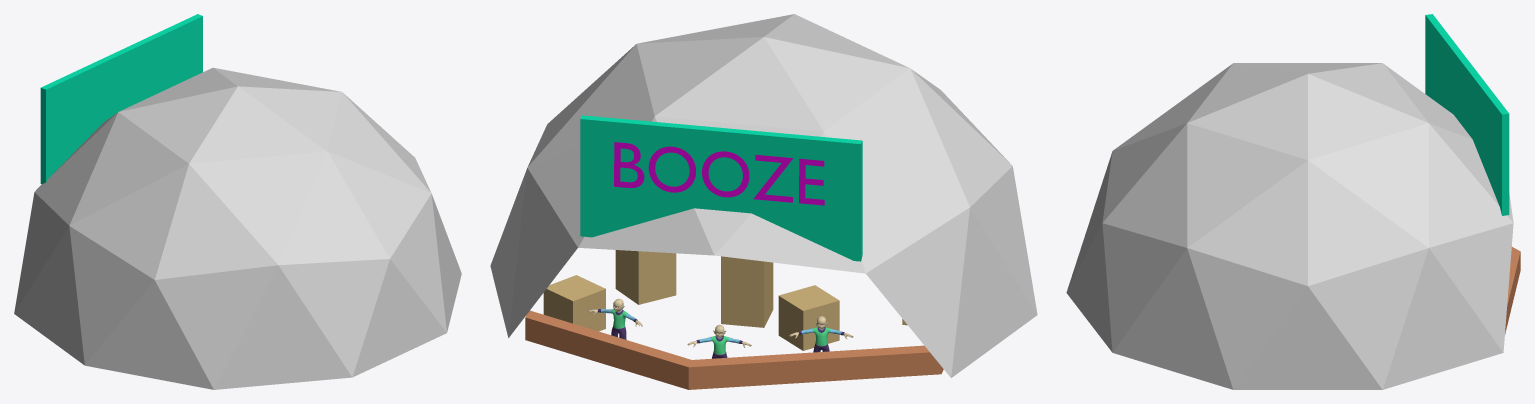
The model's file is bar.fbx.
The picture shows the model from 3 angles, left to right: view 1: azimuth 30°, elevation 25°; view 2: azimuth 150°, elevation 25°; view 3: azimuth 270°, elevation 25°; orthographic projection. The views are drawn at different scales.
Visible parts, largest first — view 1: Icosphere, Cube.005; view 2: Icosphere, Cube.005, Cube, Text, Cube.006, Cube.007, Cube.004, Cube.002; view 3: Icosphere, Cube.005, Cube.
Boxes of the visible parts, x1=… form: Icosphere: x1=14, y1=67, x2=461, y2=389; Cube.005: x1=40, y1=14, x2=202, y2=184; Icosphere: x1=490, y1=14, x2=1037, y2=377; Cube.005: x1=580, y1=115, x2=862, y2=261; Cube: x1=525, y1=298, x2=943, y2=389; Text: x1=614, y1=142, x2=824, y2=205; Cube.006: x1=721, y1=256, x2=773, y2=327; Cube.007: x1=615, y1=250, x2=676, y2=304; Cube.004: x1=778, y1=285, x2=839, y2=350; Cube.002: x1=543, y1=275, x2=605, y2=331; Icosphere: x1=1066, y1=63, x2=1513, y2=389; Cube.005: x1=1425, y1=14, x2=1509, y2=215; Cube: x1=1505, y1=247, x2=1520, y2=334.
Size of the model in its own units: 3.62 by 1.91 by 3.57.
